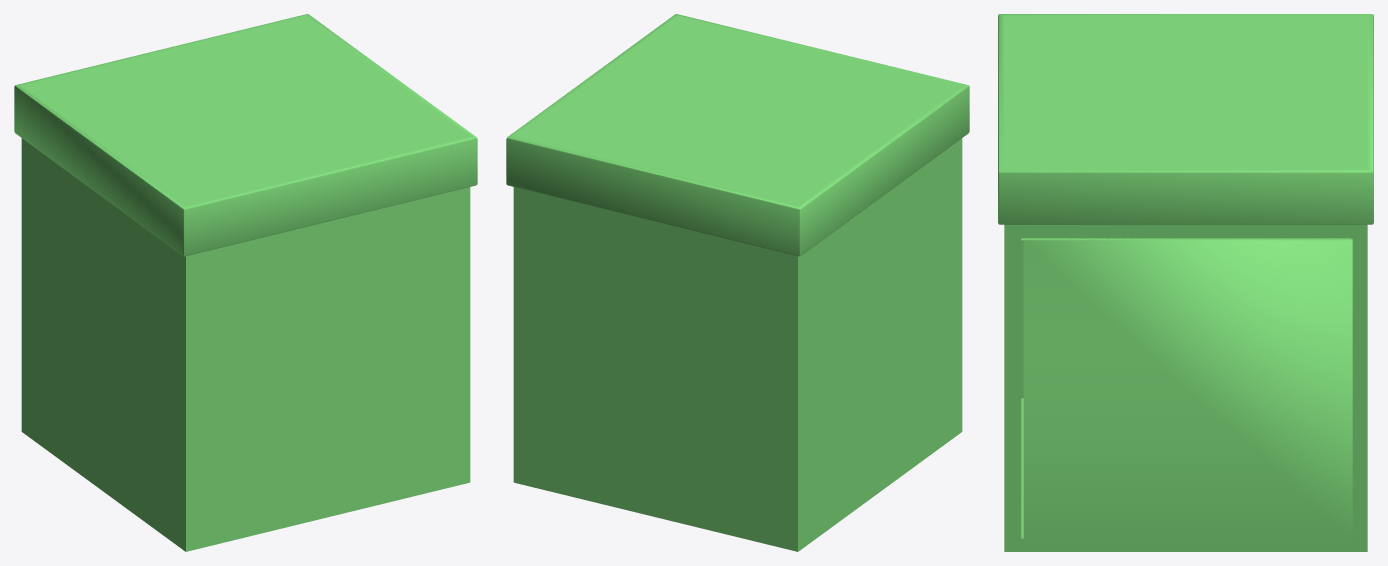
Rendered from ClearCounter.fbx.
The picture shows the model from 3 angles, left to right: view 1: azimuth 30°, elevation 25°; view 2: azimuth 150°, elevation 25°; view 3: azimuth 270°, elevation 25°; orthographic projection. The views are drawn at different scales.
Visible parts, largest first — view 1: Mueble.004; view 2: Mueble.004; view 3: Mueble.004, Tapa.004.
Part boxes in pixels (x1,y1,x2,y2): Mueble.004: (14,14,477,551); Mueble.004: (506,14,969,551); Mueble.004: (998,14,1373,551); Tapa.004: (1023,238,1352,539).
Bounding box in the file's own units: 207 × 232 × 207.
